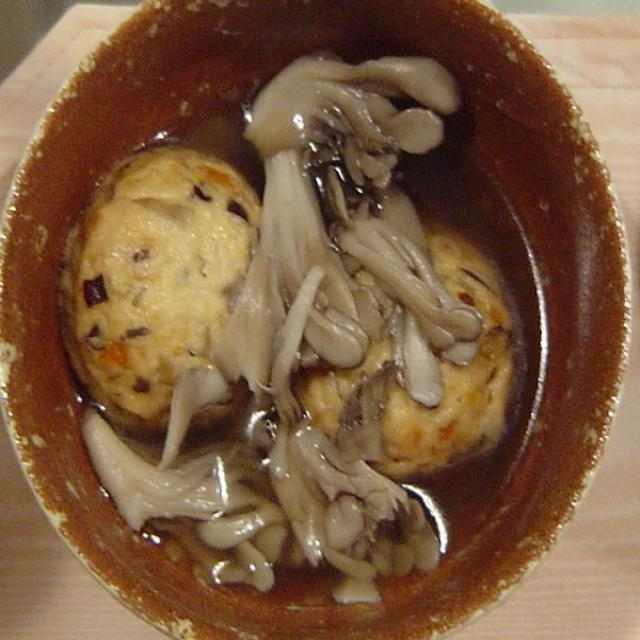熟制海鲜: (45, 98, 618, 513)
